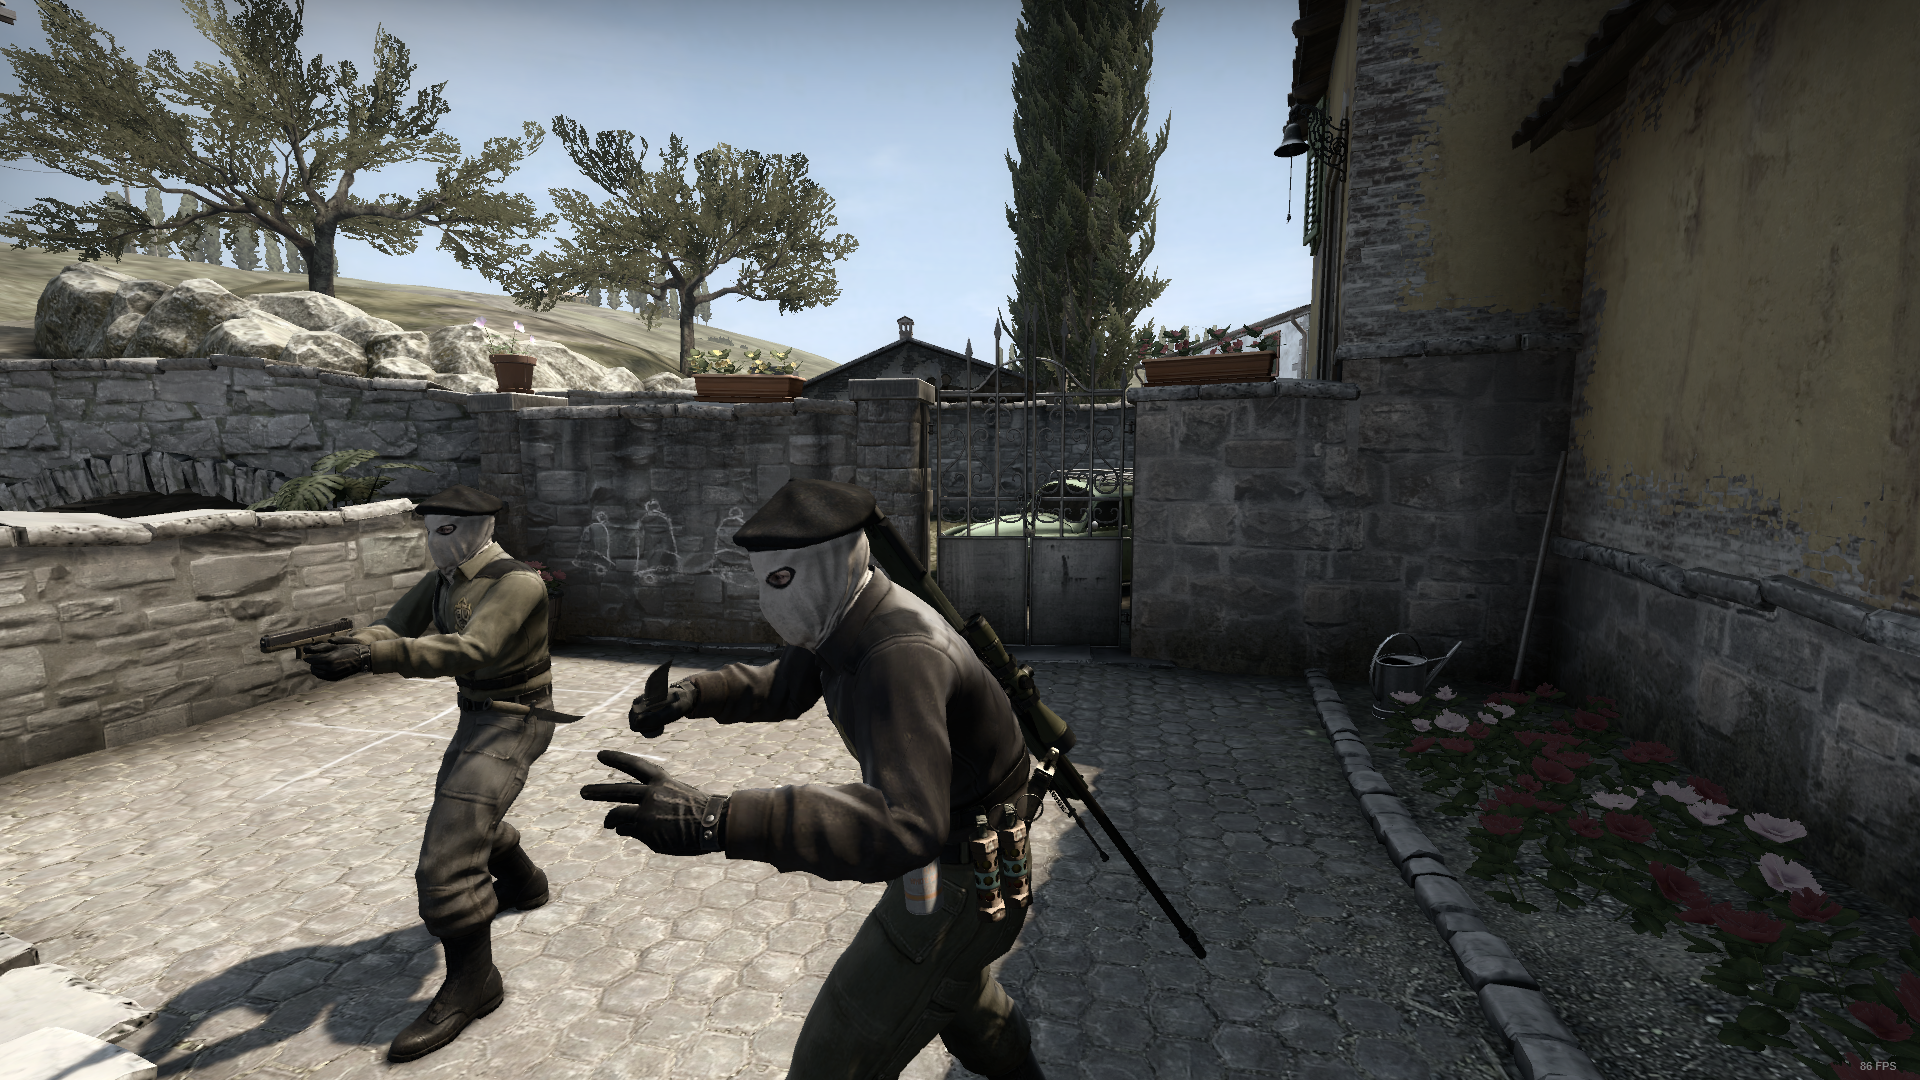t: (587, 477, 1039, 1080), (305, 485, 556, 1063)
